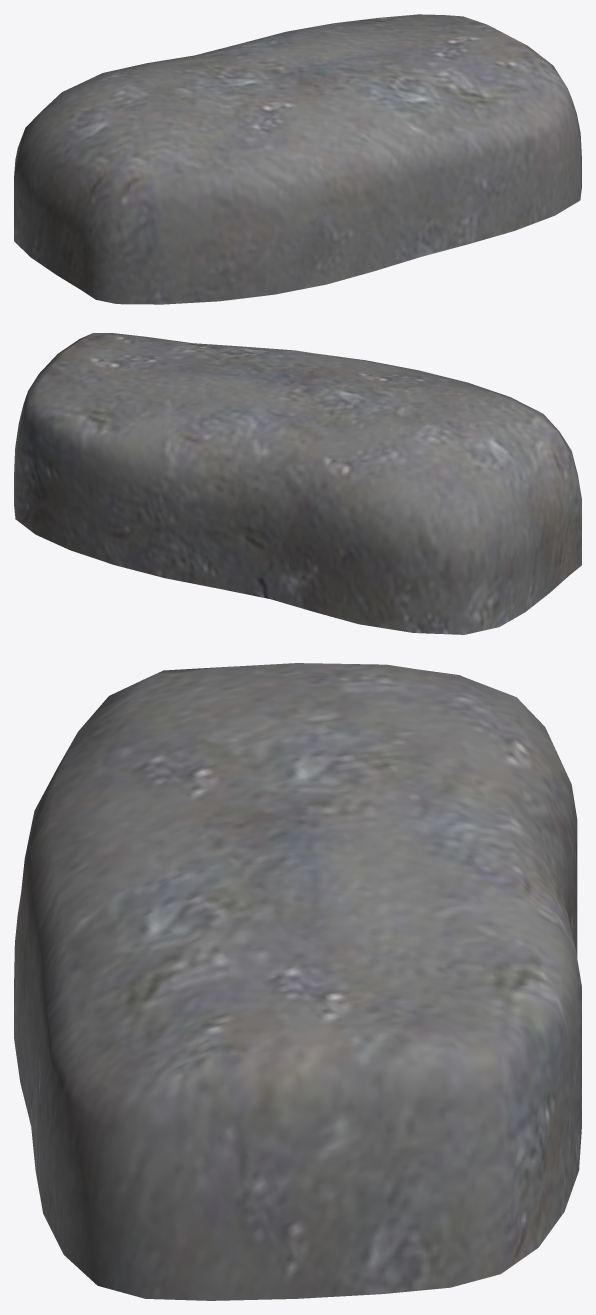
File: SM_Sun_Pal_Stone_M.fbx
The picture shows the model from 3 angles, top to bottom: view 1: azimuth 30°, elevation 25°; view 2: azimuth 150°, elevation 25°; view 3: azimuth 270°, elevation 25°; orthographic projection. The views are drawn at different scales.
Visible parts, largest first — view 1: SM_Sun_Pal_Stone_M; view 2: SM_Sun_Pal_Stone_M; view 3: SM_Sun_Pal_Stone_M.
Part boxes in pixels (x1,y1,x2,y2): SM_Sun_Pal_Stone_M: (14,14,581,304); SM_Sun_Pal_Stone_M: (14,333,581,634); SM_Sun_Pal_Stone_M: (14,663,581,1300).
Size of the model in its own units: 88.99 by 25.59 by 48.91.
